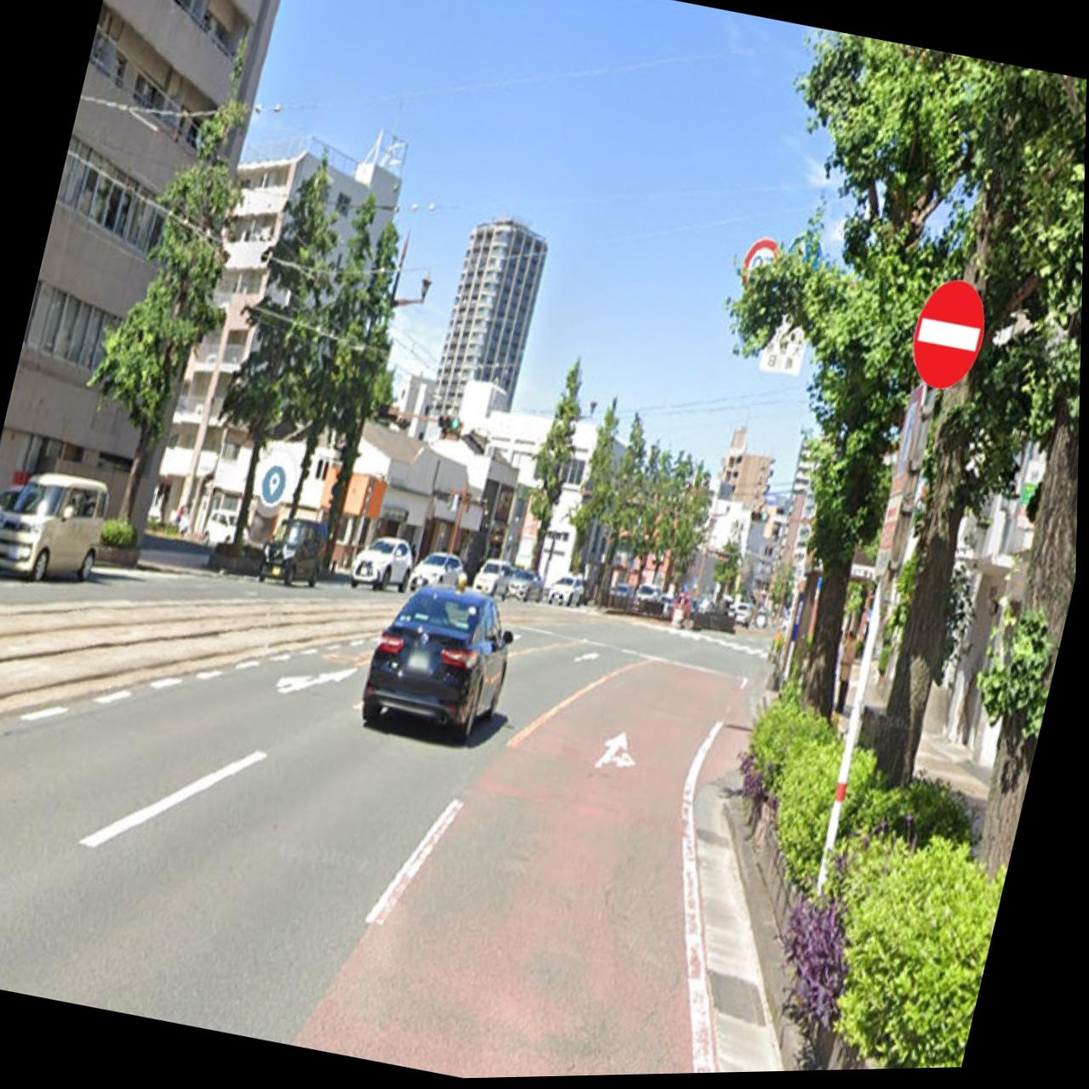barrier: (902, 269, 997, 397)
